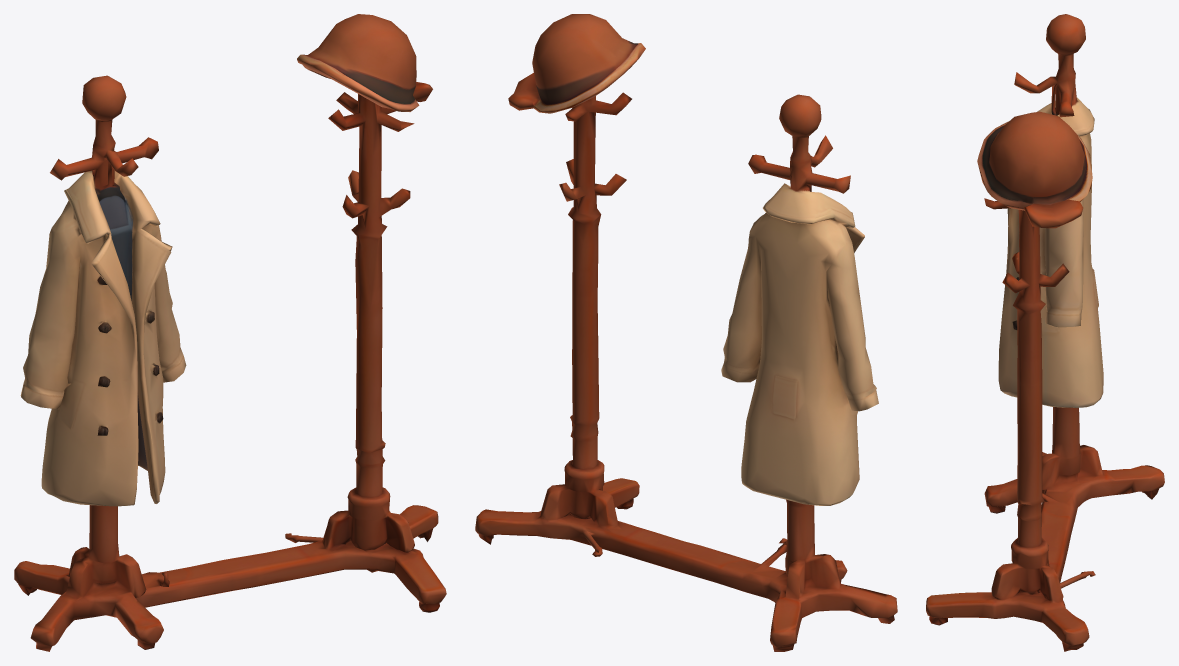
The model's file is garderobe.glb.
3 renders of one model, left to right at view 1: azimuth 30°, elevation 25°; view 2: azimuth 150°, elevation 25°; view 3: azimuth 270°, elevation 25°, orthographic. The views are drawn at different scales.
Parts seen in each view (by area): view 1: tripo_node_48bb9563-82aa-4071-9f57-6e23ed98bb07; view 2: tripo_node_48bb9563-82aa-4071-9f57-6e23ed98bb07; view 3: tripo_node_48bb9563-82aa-4071-9f57-6e23ed98bb07.
Boxes of the visible parts, bbox=[...] form: tripo_node_48bb9563-82aa-4071-9f57-6e23ed98bb07: bbox=[14, 14, 446, 651]; tripo_node_48bb9563-82aa-4071-9f57-6e23ed98bb07: bbox=[475, 14, 897, 651]; tripo_node_48bb9563-82aa-4071-9f57-6e23ed98bb07: bbox=[926, 14, 1164, 651].
Size of the model in its own units: 0.7831 by 0.9786 by 0.4218.
Materials: 1 (1 with a texture image).
